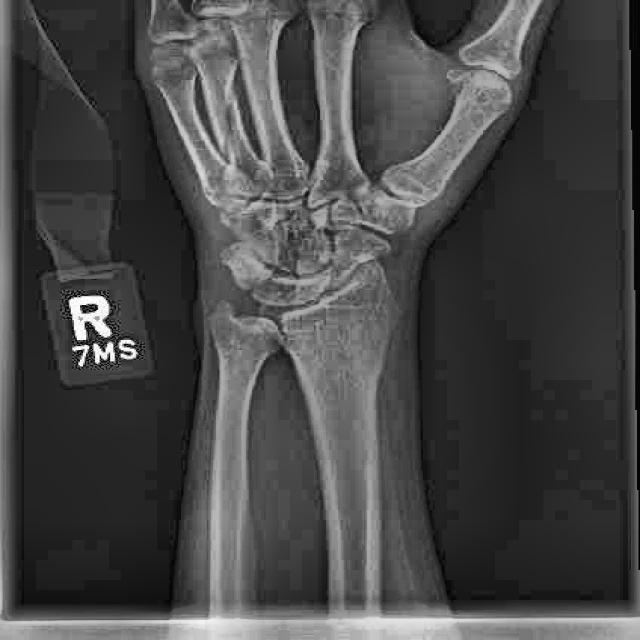wrist positive: (328, 184, 390, 226)
